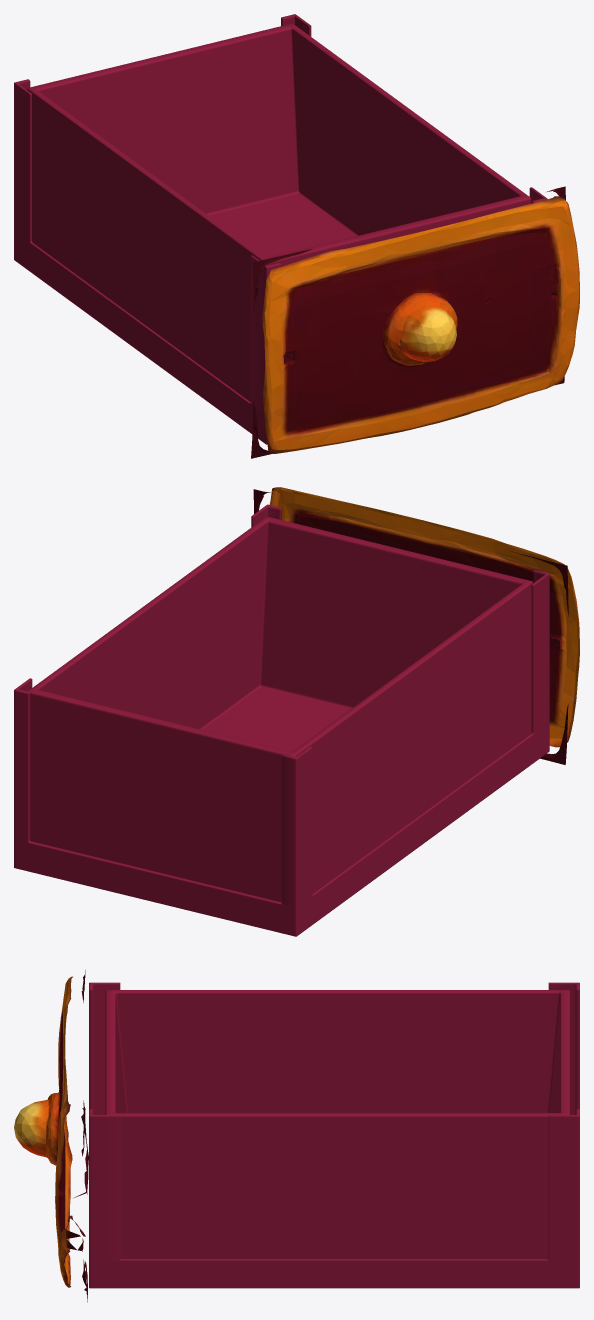
Rendered from drawer_left.glb.
3 views of the same model, one above another, from view 1: azimuth 30°, elevation 25°; view 2: azimuth 150°, elevation 25°; view 3: azimuth 270°, elevation 25° (orthographic). The views are drawn at different scales.
Parts seen in each view (by area): view 1: prefab_drawer_body_1, source_front_cap_0; view 2: prefab_drawer_body_1, source_front_cap_0; view 3: prefab_drawer_body_1, source_front_cap_0.
Part boxes in pixels (x1,y1,x2,y2): prefab_drawer_body_1: (14, 14, 547, 444); source_front_cap_0: (251, 186, 579, 458); prefab_drawer_body_1: (14, 504, 549, 936); source_front_cap_0: (253, 487, 579, 764); prefab_drawer_body_1: (89, 982, 579, 1288); source_front_cap_0: (14, 970, 88, 1302).
Bounding box in the file's own units: 0.3297 × 0.1989 × 0.5318.
Materials: 2 (1 with a texture image).
